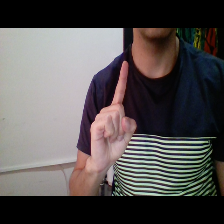2T: (83, 53, 142, 175)
